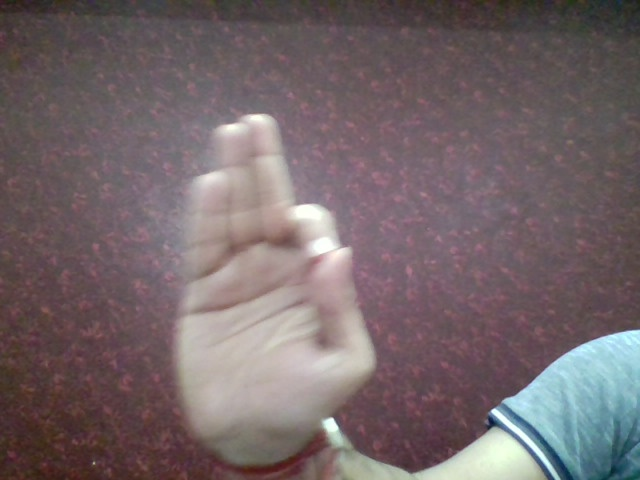f: (159, 107, 395, 459)
